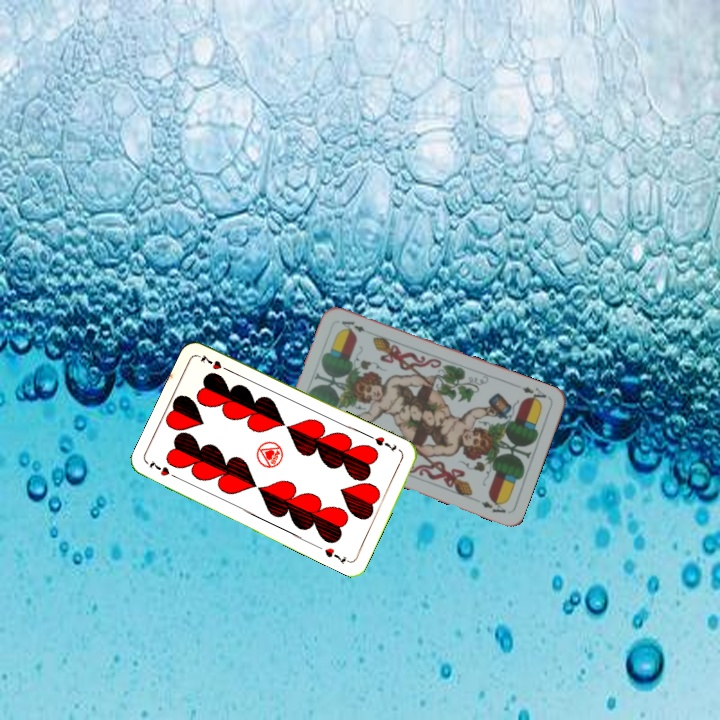EA: (518, 382, 549, 406)
H7: (144, 456, 182, 482), (371, 432, 399, 454)
